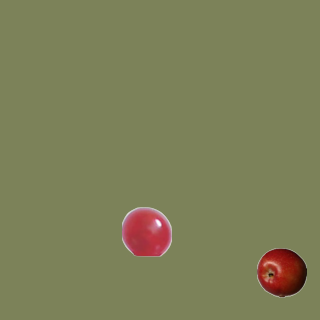Apple Braeburn: (256, 247, 306, 297)
Redcurrant: (121, 206, 171, 256)
